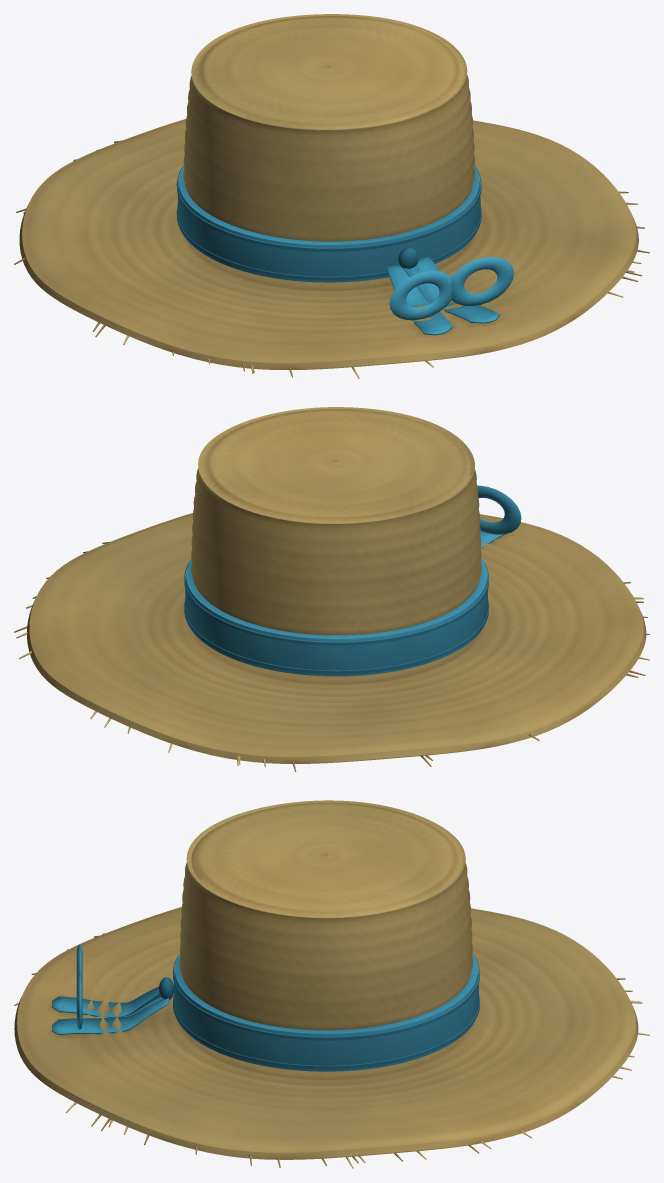
Rendered from shore_sun_hat.glb.
The picture shows the model from 3 angles, top to bottom: view 1: azimuth 30°, elevation 25°; view 2: azimuth 150°, elevation 25°; view 3: azimuth 270°, elevation 25°; orthographic projection.
Visible parts, largest first — view 1: shore_sun_hat; view 2: shore_sun_hat; view 3: shore_sun_hat.
Boxes of the visible parts, x1,y1,x2,y2 form: shore_sun_hat: (14, 14, 649, 378); shore_sun_hat: (14, 407, 649, 771); shore_sun_hat: (14, 800, 649, 1168).
Bounding box in the file's own units: 49.32 × 15.27 × 49.13.
